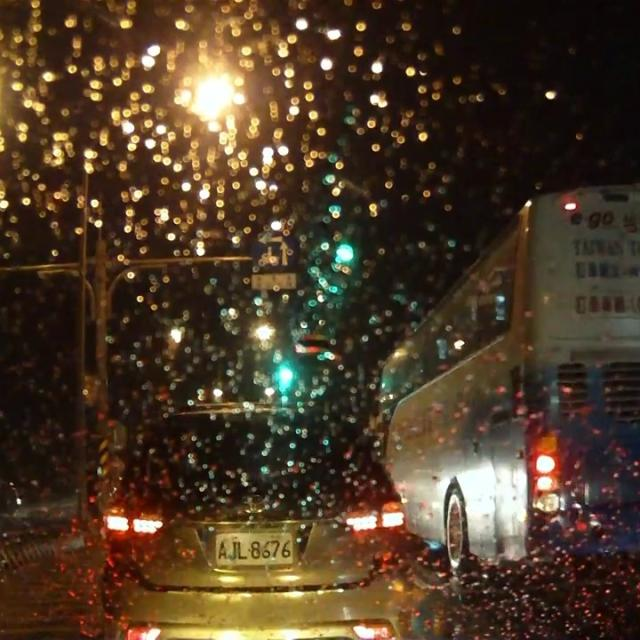Car: (83, 401, 413, 639), (0, 478, 20, 520)
